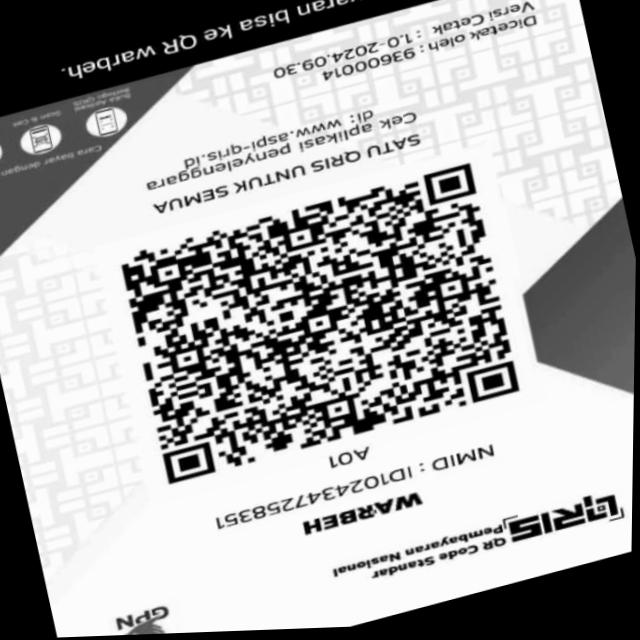acquirer: (310, 10, 542, 88)
nama_merchant: (293, 483, 433, 543)
nmid: (205, 435, 505, 534)
qrcode: (104, 155, 530, 491)
tid: (317, 439, 374, 472)
